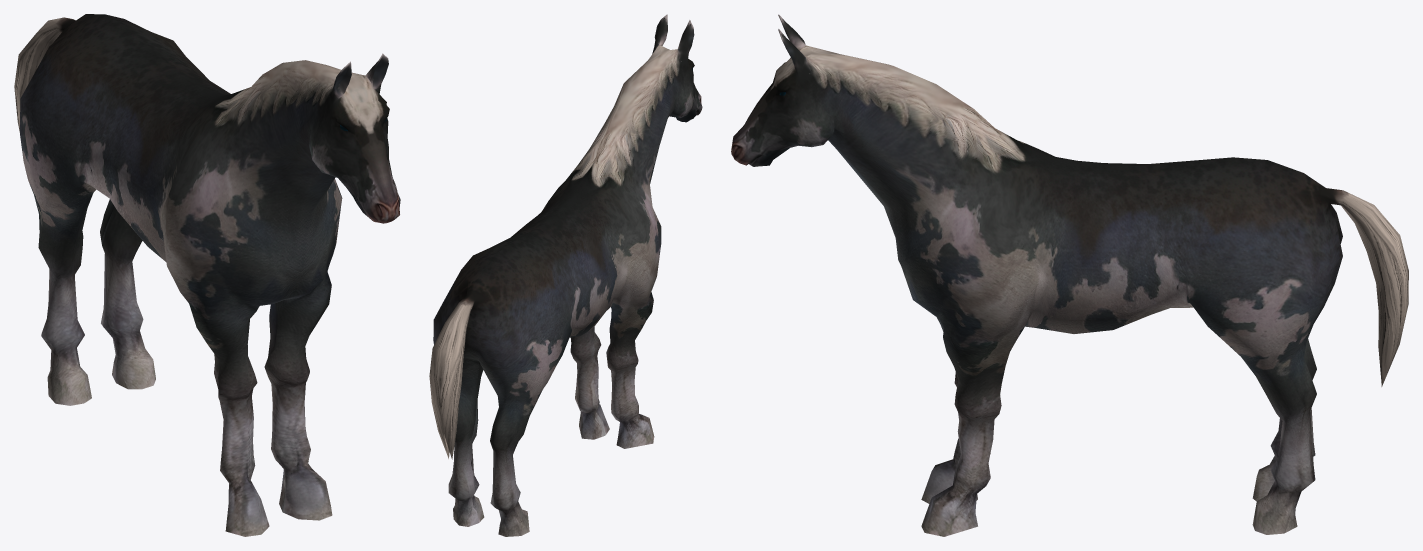
The model's file is Horse4.glb.
The picture shows the model from 3 angles, left to right: view 1: azimuth 30°, elevation 25°; view 2: azimuth 150°, elevation 25°; view 3: azimuth 270°, elevation 25°; orthographic projection. The views are drawn at different scales.
Visible parts, largest first — view 1: Horse4; view 2: Horse4; view 3: Horse4.
Part boxes in pixels (box(x1,y1,x2,y2)): Horse4: box(14, 14, 400, 536); Horse4: box(429, 14, 702, 536); Horse4: box(731, 14, 1408, 536).
Bounding box in the file's own units: 0.6161 × 1.93 × 2.41.
Materials: 1 (1 with a texture image).
